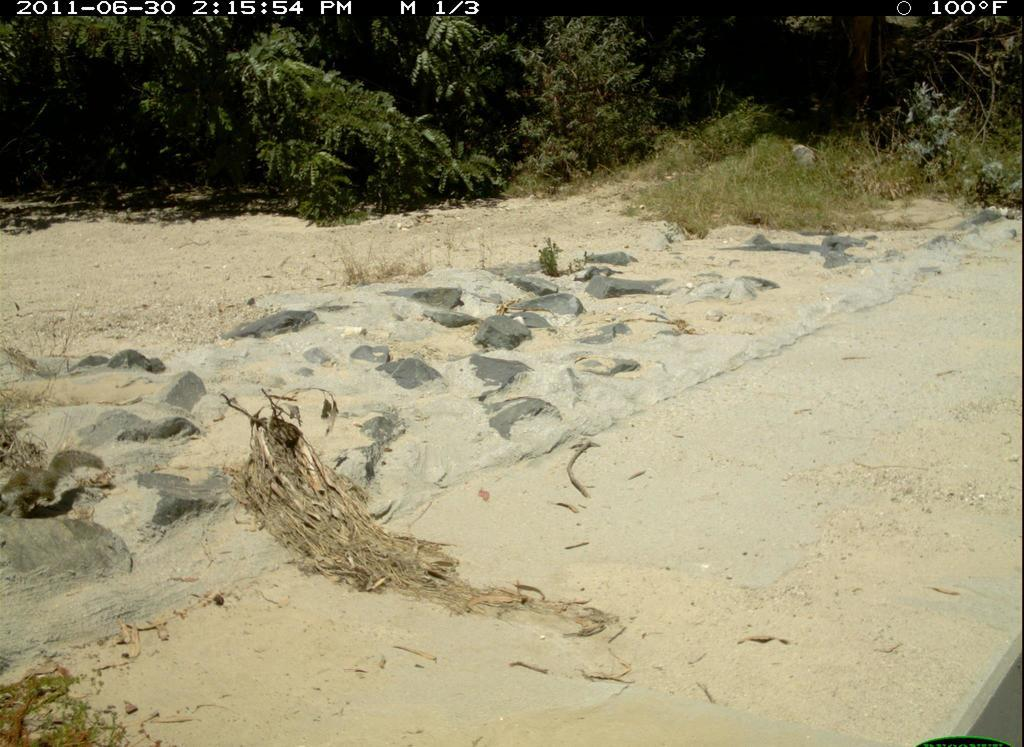squirrel: (2, 434, 120, 519)
